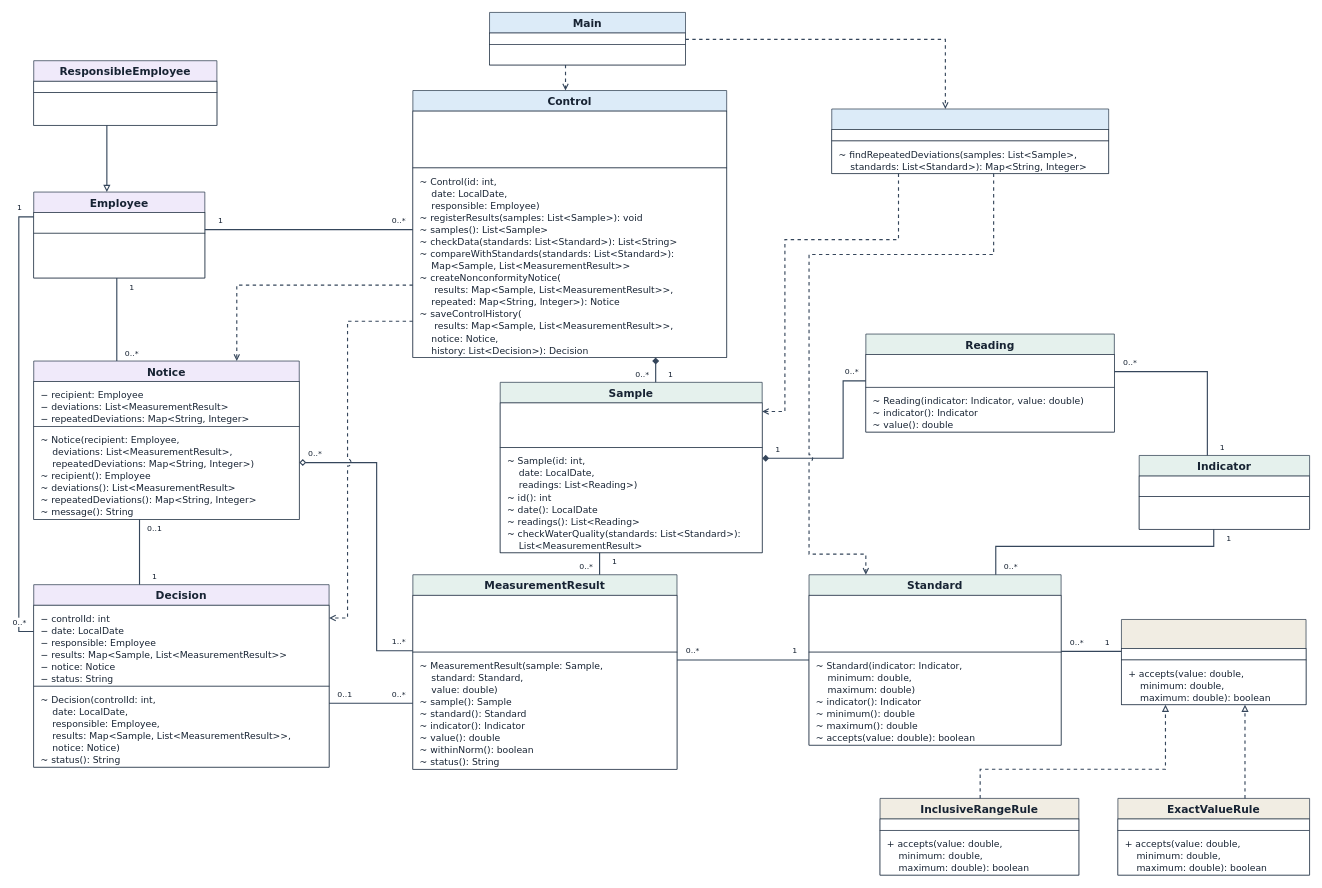
This 1322x888 diagram has some shape labels left out. The box of each missing label's shape, as (x1, y1, x2, y2) in pixels:
+ main(args: String[]): void: (489, 44, 686, 65)
QualityAnalyzer: (831, 108, 1109, 174)
~ Employee(id: int) ~ id(): int ~ canApprove(): boolean: (33, 233, 205, 278)
~ Indicator(name: String) ~ name(): String: (1138, 496, 1310, 529)
~ ResponsibleEmployee(id: int) ~ canApprove(): boolean: (33, 92, 217, 125)
«interface» RangeRule: (1121, 619, 1306, 705)
− id: int: (33, 212, 205, 233)
− id: int − date: LocalDate − readings: List<Reading>: (499, 402, 762, 448)
− id: int − date: LocalDate − responsible: Employee − samples: List<Sample>: (412, 110, 727, 168)
− indicator: Indicator − minimum: double − maximum: double − rule: RangeRule: (808, 595, 1061, 652)
− indicator: Indicator − value: double: (865, 354, 1114, 387)
− name: String: (1138, 475, 1310, 497)
− sample: Sample − standard: Standard − value: double − withinNorm: boolean: (412, 595, 677, 652)
